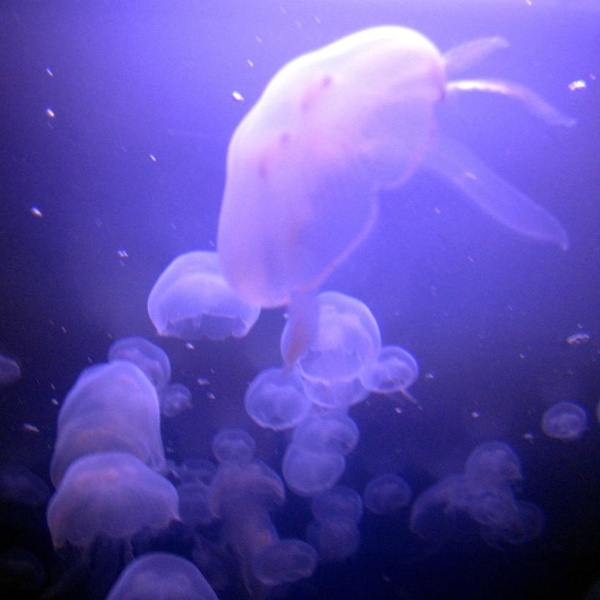Jellyfish: (0, 249, 588, 599), (218, 26, 577, 377), (151, 251, 262, 345), (543, 401, 583, 440)
